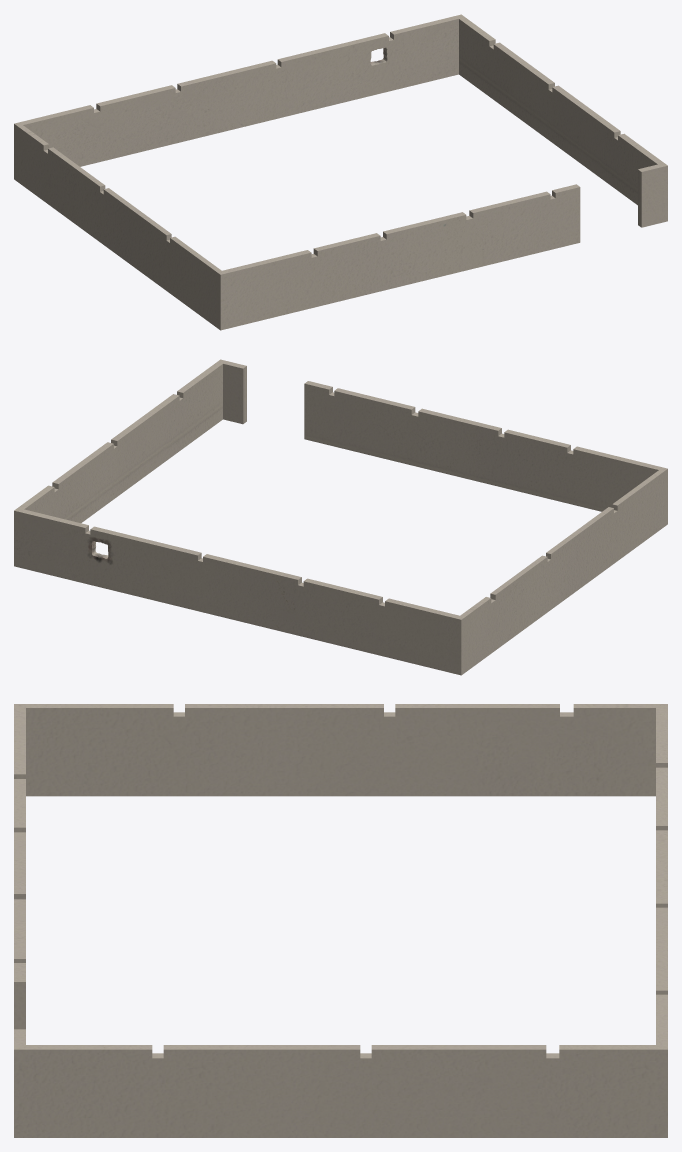
File: New Boolean House.fbx
The picture shows the model from 3 angles, top to bottom: view 1: azimuth 30°, elevation 25°; view 2: azimuth 150°, elevation 25°; view 3: azimuth 270°, elevation 25°; orthographic projection. The views are drawn at different scales.
Parts seen in each view (by area): view 1: polySurface11; view 2: polySurface11; view 3: polySurface11.
Part boxes in pixels (x1,y1,x2,y2): polySurface11: (14,14,667,330); polySurface11: (14,359,667,675); polySurface11: (14,704,667,1137).
Size of the model in its own units: 33.37 by 3.97 by 26.68.
1 material, 1 textured.
